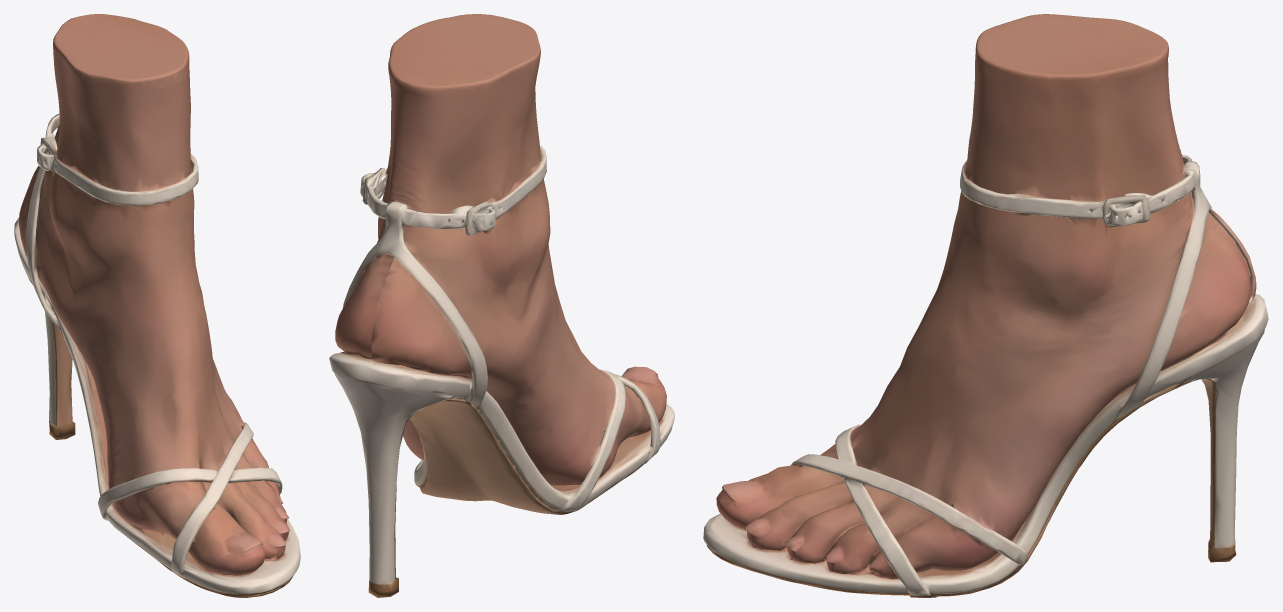
File: sandal_original.glb
The picture shows the model from 3 angles, left to right: view 1: azimuth 30°, elevation 25°; view 2: azimuth 150°, elevation 25°; view 3: azimuth 270°, elevation 25°; orthographic projection. The views are drawn at different scales.
Parts seen in each view (by area): view 1: tripo_node_3d543ea0-5d83-4857-9c17-46d5f8c9e3c3; view 2: tripo_node_3d543ea0-5d83-4857-9c17-46d5f8c9e3c3; view 3: tripo_node_3d543ea0-5d83-4857-9c17-46d5f8c9e3c3.
Boxes of the visible parts, bbox=[...] form: tripo_node_3d543ea0-5d83-4857-9c17-46d5f8c9e3c3: bbox=[14, 14, 300, 597]; tripo_node_3d543ea0-5d83-4857-9c17-46d5f8c9e3c3: bbox=[329, 14, 674, 597]; tripo_node_3d543ea0-5d83-4857-9c17-46d5f8c9e3c3: bbox=[703, 14, 1268, 597].
Size of the model in its own units: 0.3705 by 0.9812 by 0.9778.
Materials: 1 (1 with a texture image).
